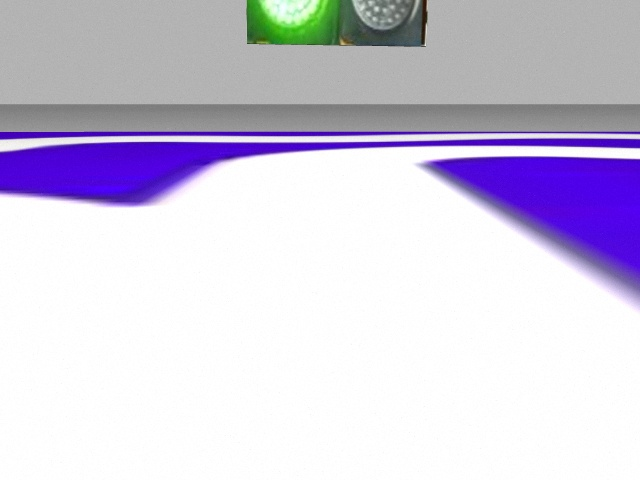green: (248, 1, 338, 47)
